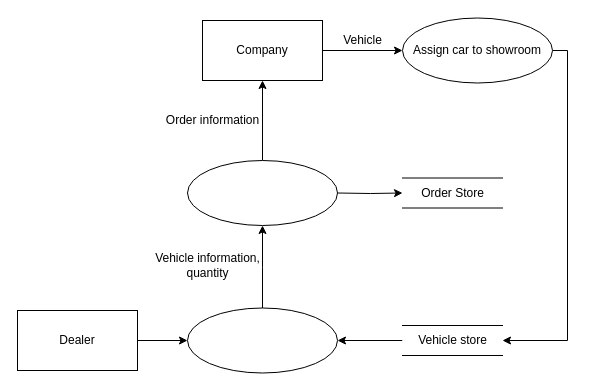
The diagram is 593 pixels wide and 390 high, and some of its shapes have lost their labels. The centre of each missing label's shape, as x and y in pixels:
"Find specify vehicle" goes at (262,340).
"Order" goes at (262,193).
